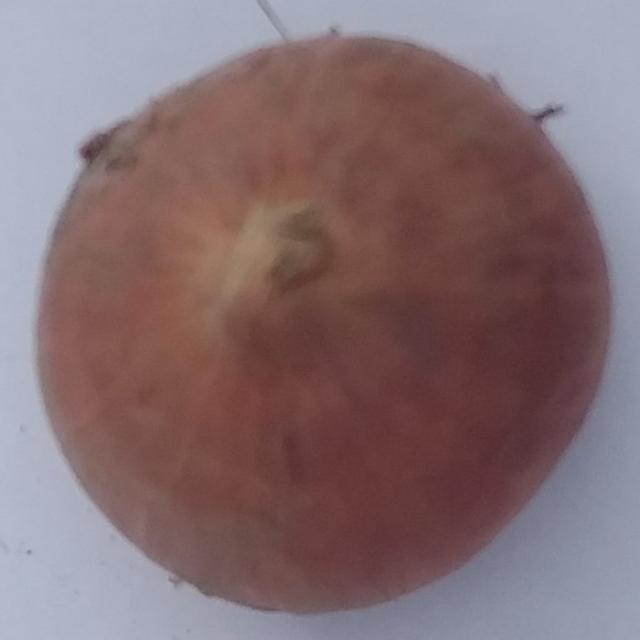onion: (27, 28, 615, 620)
